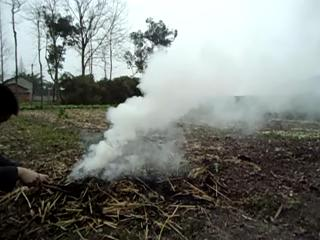yanwu: (72, 34, 290, 175)
